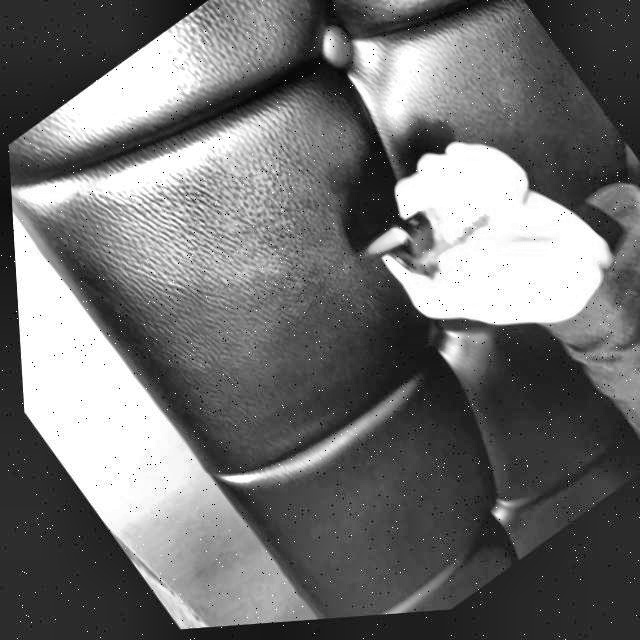Fire: (355, 226, 409, 272)
